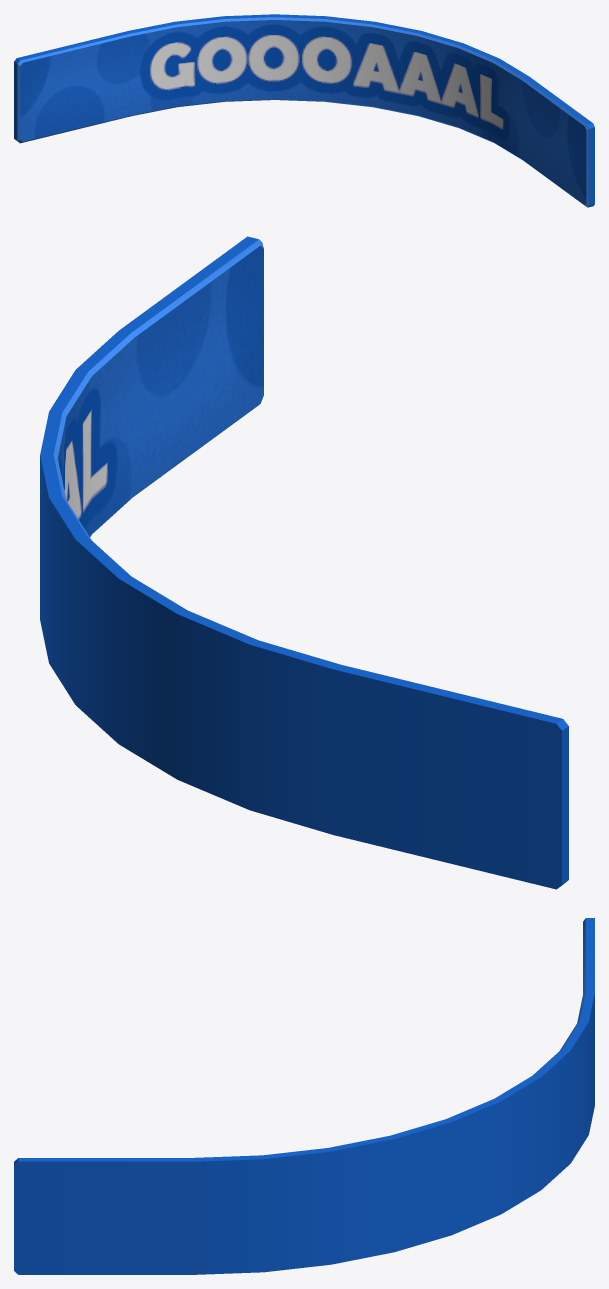
The model's file is billboards_corner_A.fbx.
3 views of the same model, one above another, from view 1: azimuth 30°, elevation 25°; view 2: azimuth 150°, elevation 25°; view 3: azimuth 270°, elevation 25° (orthographic). The views are drawn at different scales.
Visible parts, largest first — view 1: billboards_corner_A; view 2: billboards_corner_A; view 3: billboards_corner_A.
Boxes of the visible parts, <box> form: billboards_corner_A: <box>14,14,594,207</box>; billboards_corner_A: <box>40,236,568,889</box>; billboards_corner_A: <box>14,918,594,1274</box>.
Size of the model in its own units: 290 by 62.33 by 290.
